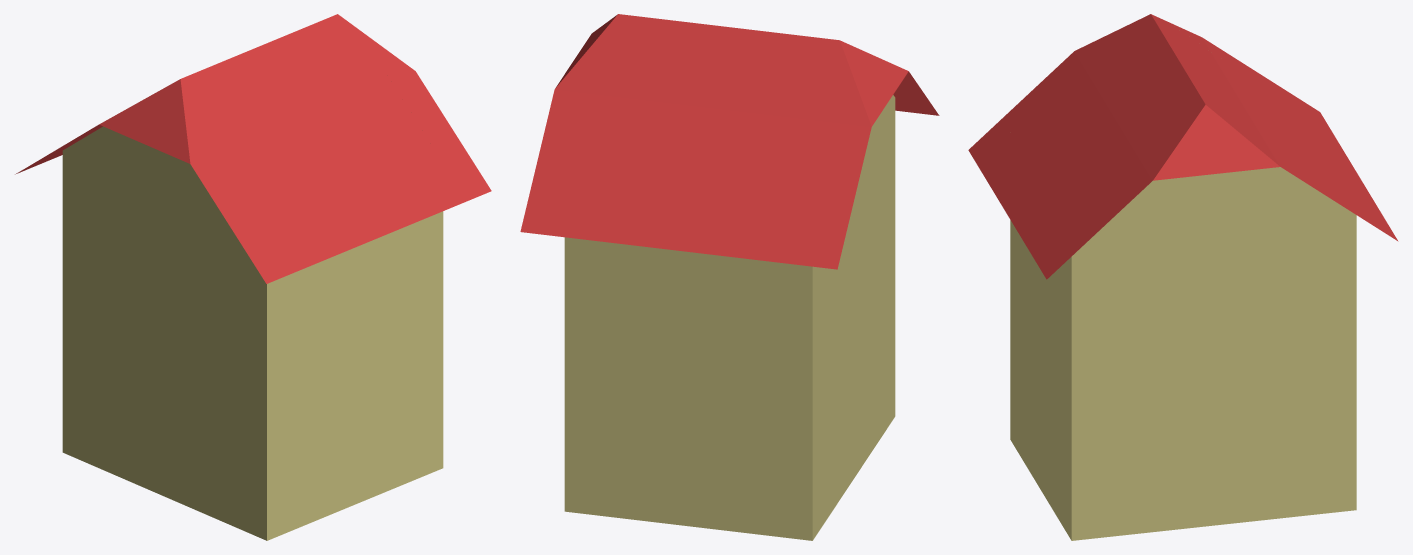
The picture shows the model from 3 angles, left to right: view 1: azimuth 30°, elevation 25°; view 2: azimuth 150°, elevation 25°; view 3: azimuth 270°, elevation 25°; orthographic projection. The views are drawn at different scales.
Parts seen in each view (by area): view 1: group_5, group_3, group_4; view 2: group_5, group_3, group_4; view 3: group_5, group_3, group_4.
Boxes of the visible parts, left/top/right/bottom form: group_5: left=62, top=126, right=443, bottom=540; group_3: left=82, top=14, right=490, bottom=283; group_4: left=15, top=55, right=491, bottom=283; group_5: left=564, top=95, right=895, bottom=540; group_3: left=520, top=14, right=939, bottom=269; group_4: left=568, top=31, right=871, bottom=254; group_5: left=1010, top=167, right=1356, bottom=540; group_3: left=969, top=14, right=1398, bottom=278; group_4: left=968, top=22, right=1277, bottom=279.
Bounding box in the file's own units: 11.49 × 12.47 × 13.34.
